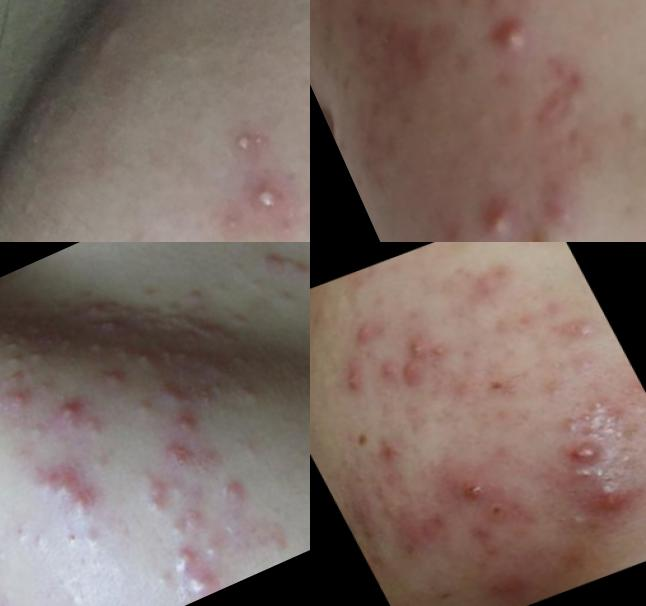acne_scars: (377, 22, 445, 86), (511, 213, 572, 243)
cystic: (28, 452, 90, 510), (581, 466, 646, 519), (148, 365, 199, 421)
papular: (515, 51, 606, 144), (443, 457, 510, 513), (388, 354, 445, 398), (333, 352, 382, 396), (403, 329, 454, 370), (159, 434, 199, 474), (351, 316, 388, 349)
purulent: (470, 1, 550, 71), (233, 162, 311, 232), (466, 181, 528, 243), (225, 121, 276, 167), (139, 470, 176, 518), (164, 539, 204, 582), (171, 410, 211, 452), (561, 432, 601, 472), (221, 468, 258, 508), (66, 490, 105, 527), (54, 396, 83, 426), (191, 573, 211, 597)
sebo-crystan-conglo: (1, 383, 37, 424), (159, 437, 195, 476), (1, 589, 11, 606)
whitehead: (606, 87, 646, 146), (550, 490, 601, 536), (5, 342, 52, 381), (544, 405, 588, 444), (1, 310, 38, 354), (1, 307, 22, 374), (131, 1, 209, 19), (539, 366, 579, 401), (224, 301, 263, 335), (134, 295, 171, 325), (233, 374, 267, 406), (81, 334, 109, 360), (171, 339, 196, 367), (134, 343, 158, 368)
